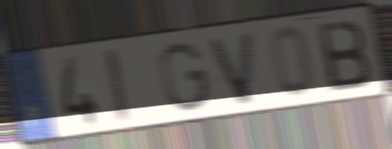0: (268, 23, 317, 101)
4: (59, 54, 102, 128)
B: (313, 17, 374, 94)
G: (156, 40, 214, 115)
I: (100, 45, 134, 126)
V: (204, 28, 258, 108)
